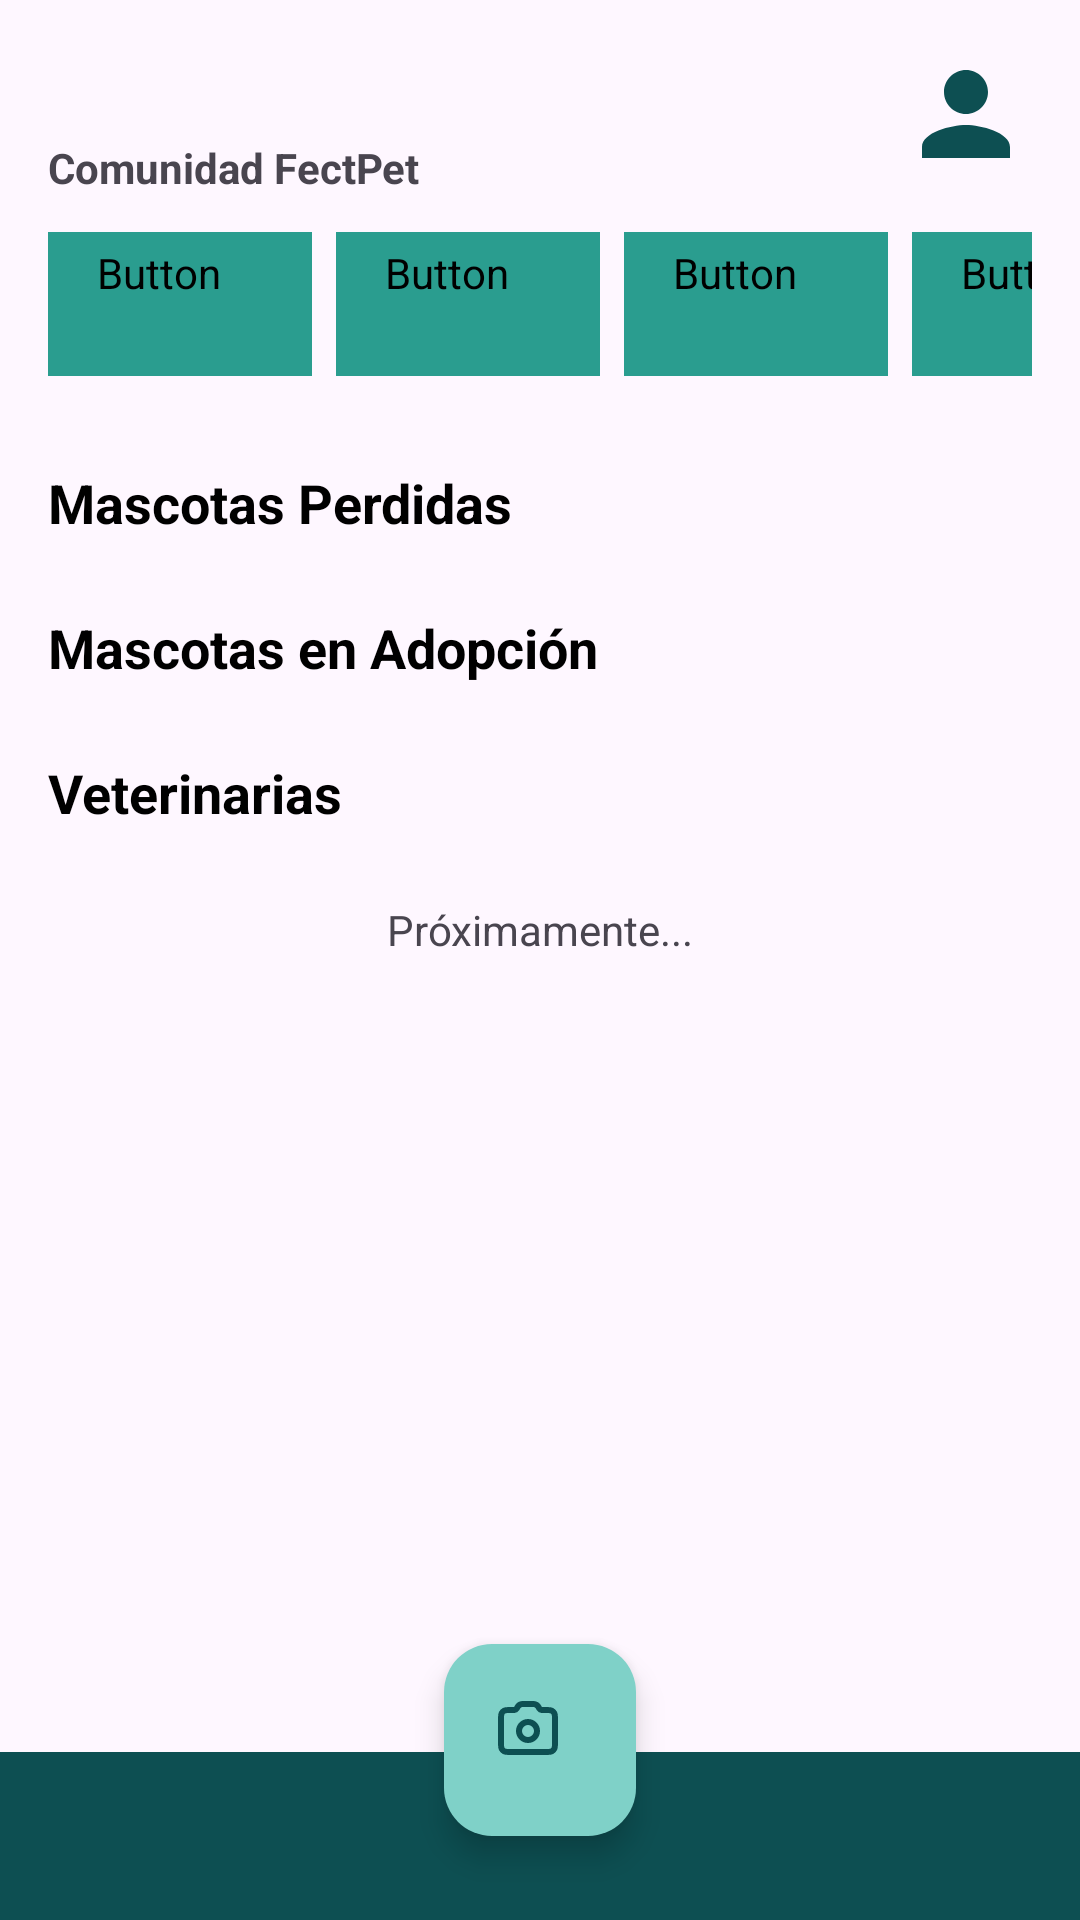

Point at icon controls on the screen. Image size 1080 × 1920, points as (x=x, y=y).
camara: (x=540, y=1740)
person: (x=966, y=114)
